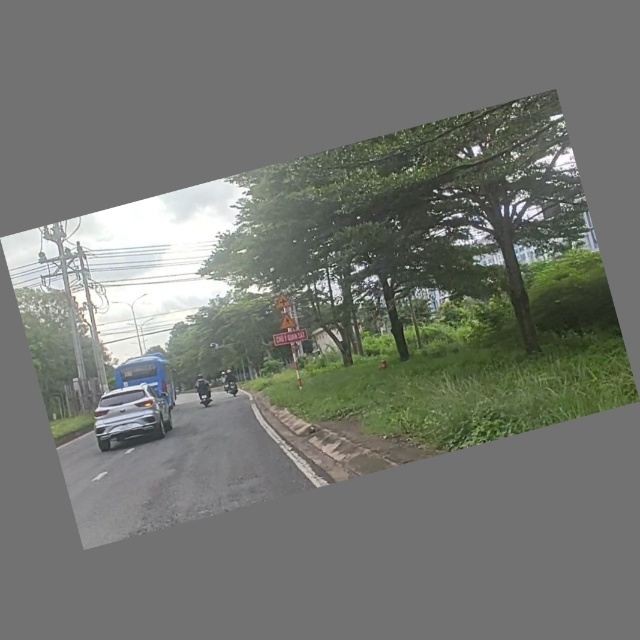W.205a: (270, 290, 295, 313)
W.224: (275, 309, 301, 333)
